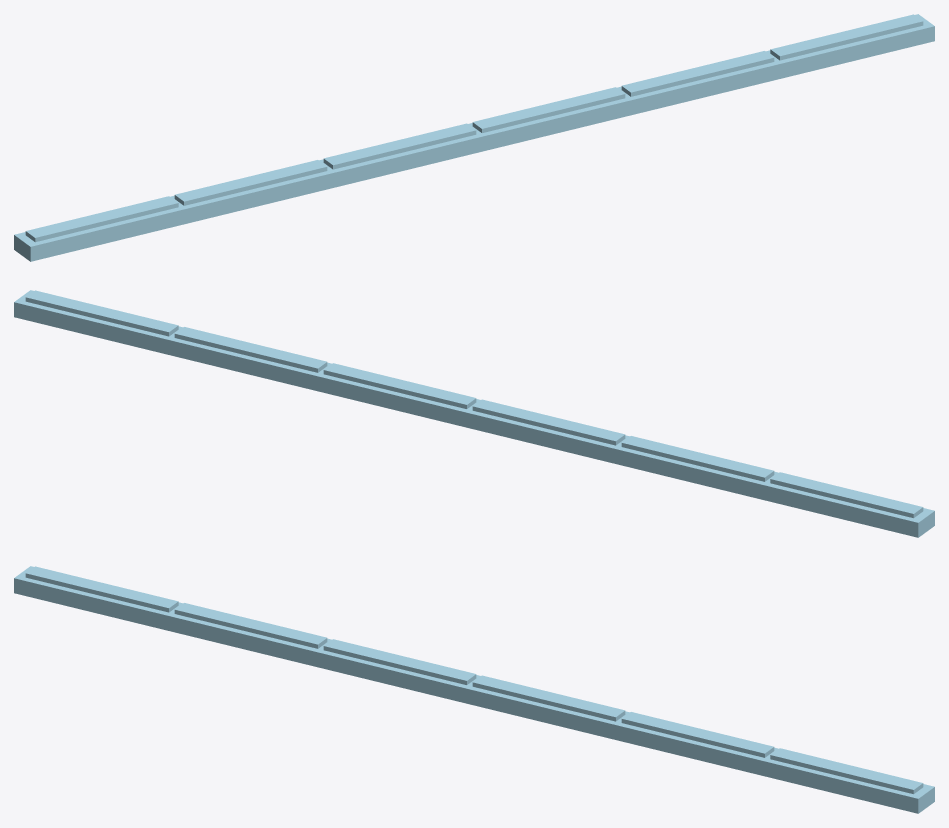
Rendered from SM_Int_Freighter_CrewQuarters_Lights.fbx.
3 views of the same model, one above another, from view 1: azimuth 30°, elevation 25°; view 2: azimuth 150°, elevation 25°; view 3: azimuth 330°, elevation 25° (orthographic).
Parts seen in each view (by area): view 1: SM_Int_Freighter_CrewQuarters_Lights; view 2: SM_Int_Freighter_CrewQuarters_Lights; view 3: SM_Int_Freighter_CrewQuarters_Lights.
Part boxes in pixels (x1,y1,x2,y2): SM_Int_Freighter_CrewQuarters_Lights: (14,14,934,261); SM_Int_Freighter_CrewQuarters_Lights: (14,290,934,537); SM_Int_Freighter_CrewQuarters_Lights: (14,566,934,813).
Bounding box in the file's own units: 729 × 23.1 × 14.85.
